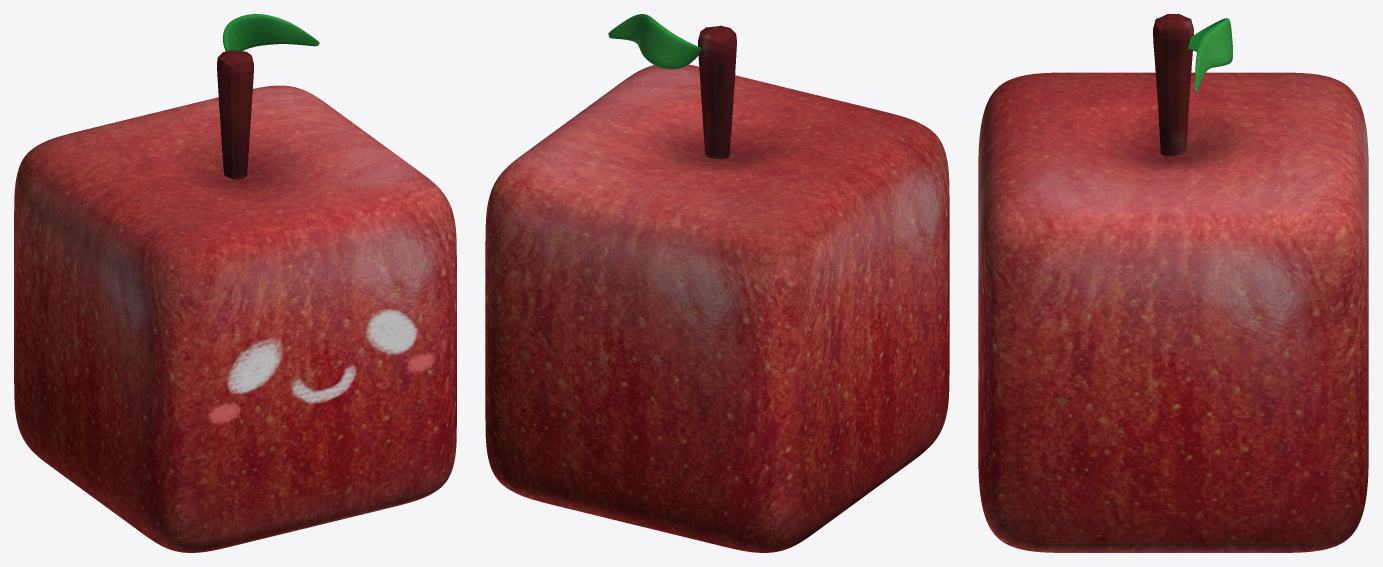
The model's file is Apple.glb.
3 views of the same model, side by side, from view 1: azimuth 30°, elevation 25°; view 2: azimuth 150°, elevation 25°; view 3: azimuth 270°, elevation 25° (orthographic). The views are drawn at different scales.
Parts seen in each view (by area): view 1: 상자_상자, 원통_원통, 튜브_튜브; view 2: 상자_상자, 원통_원통, 튜브_튜브; view 3: 상자_상자, 원통_원통, 튜브_튜브.
Part boxes in pixels (box(x1,y1,x2,y2)): 상자_상자: box(14, 85, 456, 552); 원통_원통: box(217, 50, 253, 179); 튜브_튜브: box(223, 14, 319, 51); 상자_상자: box(485, 64, 949, 552); 원통_원통: box(698, 25, 736, 159); 튜브_튜브: box(608, 14, 701, 69); 상자_상자: box(978, 72, 1368, 552); 원통_원통: box(1153, 14, 1193, 156); 튜브_튜브: box(1187, 18, 1232, 92).
Bounding box in the file's own units: 1 × 1.38 × 1.
3 materials, 2 textured.
